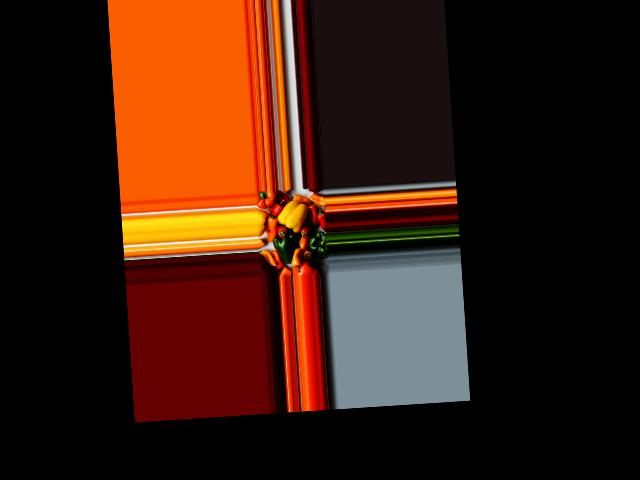bell_pepper: (314, 207, 327, 230)
